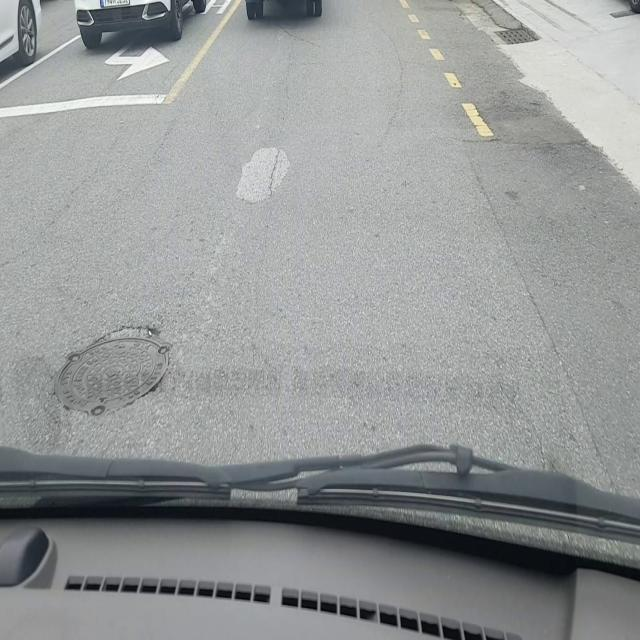Pothole: (46, 320, 176, 422)
